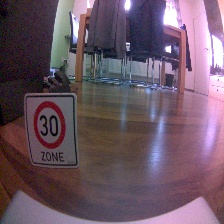dreisiger_zone: (22, 92, 79, 168)
